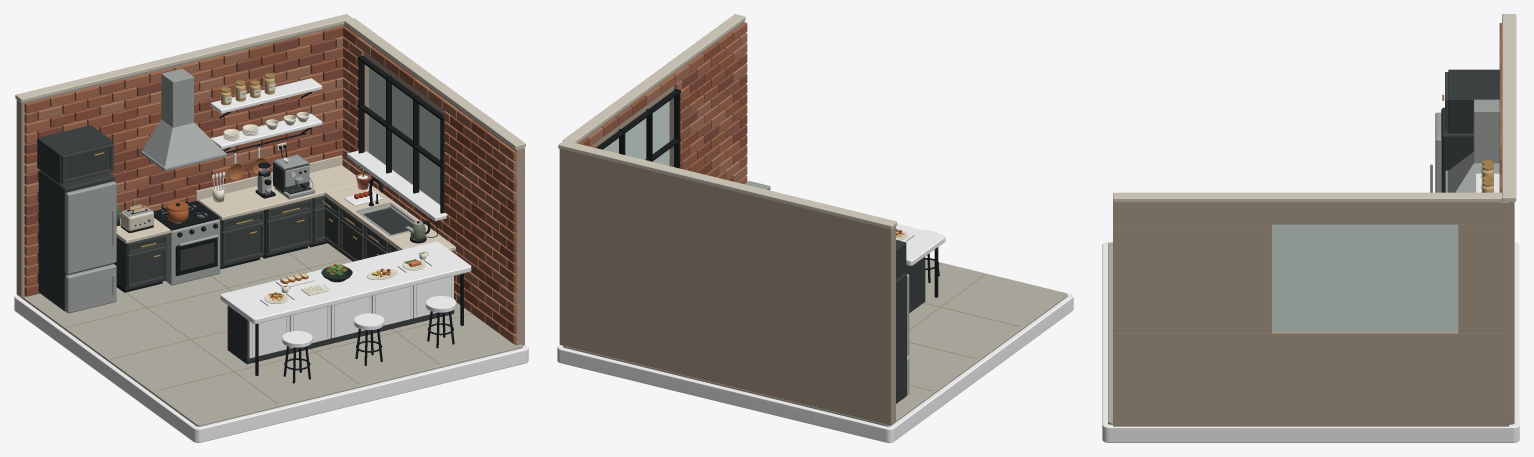
Rendered from brick-loft-kitchen.glb.
3 views of the same model, side by side, from view 1: azimuth 30°, elevation 25°; view 2: azimuth 150°, elevation 25°; view 3: azimuth 270°, elevation 25° (orthographic). The views are drawn at different scales.
Parts seen in each view (by area): view 1: Continuous concrete floor export, Oak-edged miniature foundation export, Generous oak dining countertop export, Window daylight panes export, Separate brushed steel fridge door export, Fridge cabinet export, Back wall top coping export, Back mortar wall export, Right stone countertop export, Side wall top coping export, Tapered stainless extractor export, Fridge top cupboard export (+33 smaller); view 2: Back mortar wall export, Continuous concrete floor export, Oak-edged miniature foundation export, Back wall top coping export, Side wall top coping export, Window daylight panes export, Fridge cabinet export, Generous oak dining countertop export, Window wall mortar.001 export, Peninsula graphite carcass export, Steel window crossbar.002 export, Steel window mullion export; view 3: Window wall mortar export, Window daylight panes export, Window wall mortar.002 export, Oak-edged miniature foundation export, Window wall mortar.001 export, Window wall mortar.003 export, Side wall top coping export, Back wall top coping export, Fridge top cupboard export, Extractor chimney export, Back mortar wall export, Fridge cabinet export (+3 smaller).
Part boxes in pixels (left/top/right/bottom): Continuous concrete floor export: left=22, top=243, right=522, bottom=426; Oak-edged miniature foundation export: left=14, top=295, right=528, bottom=442; Generous oak dining countertop export: left=220, top=241, right=471, bottom=323; Window daylight panes export: left=369, top=67, right=440, bottom=204; Separate brushed steel fridge door export: left=65, top=181, right=116, bottom=274; Fridge cabinet export: left=38, top=170, right=114, bottom=311; Back wall top coping export: left=15, top=14, right=352, bottom=102; Back mortar wall export: left=16, top=24, right=344, bottom=297; Right stone countertop export: left=198, top=165, right=357, bottom=220; Side wall top coping export: left=344, top=18, right=525, bottom=149; Tapered stainless extractor export: left=142, top=119, right=224, bottom=167; Fridge top cupboard export: left=37, top=125, right=113, bottom=184; Back mortar wall export: left=559, top=149, right=895, bottom=425; Continuous concrete floor export: left=563, top=259, right=1067, bottom=426; Oak-edged miniature foundation export: left=557, top=260, right=1073, bottom=442; Back wall top coping export: left=558, top=140, right=897, bottom=229; Side wall top coping export: left=563, top=14, right=745, bottom=143; Window daylight panes export: left=603, top=101, right=669, bottom=165; Fridge cabinet export: left=896, top=273, right=906, bottom=403; Generous oak dining countertop export: left=896, top=224, right=945, bottom=265; Window wall mortar.001 export: left=577, top=21, right=744, bottom=147; Peninsula graphite carcass export: left=906, top=257, right=925, bottom=312; Steel window crossbar.002 export: left=596, top=90, right=680, bottom=149; Steel window mullion export: left=674, top=89, right=680, bottom=168; Window wall mortar export: left=1113, top=331, right=1508, bottom=426; Window daylight panes export: left=1272, top=224, right=1458, bottom=331; Window wall mortar.002 export: left=1113, top=224, right=1271, bottom=333; Oak-edged miniature foundation export: left=1102, top=242, right=1519, bottom=442; Window wall mortar.001 export: left=1113, top=201, right=1508, bottom=224; Window wall mortar.003 export: left=1458, top=224, right=1508, bottom=333; Side wall top coping export: left=1113, top=192, right=1501, bottom=202; Back wall top coping export: left=1502, top=14, right=1516, bottom=201; Fridge top cupboard export: left=1448, top=69, right=1499, bottom=132; Extractor chimney export: left=1473, top=99, right=1499, bottom=163; Back mortar wall export: left=1509, top=202, right=1514, bottom=423; Fridge cabinet export: left=1441, top=107, right=1473, bottom=192.
Bounding box in the file's own units: 6.2 × 3.82 × 5.9.
